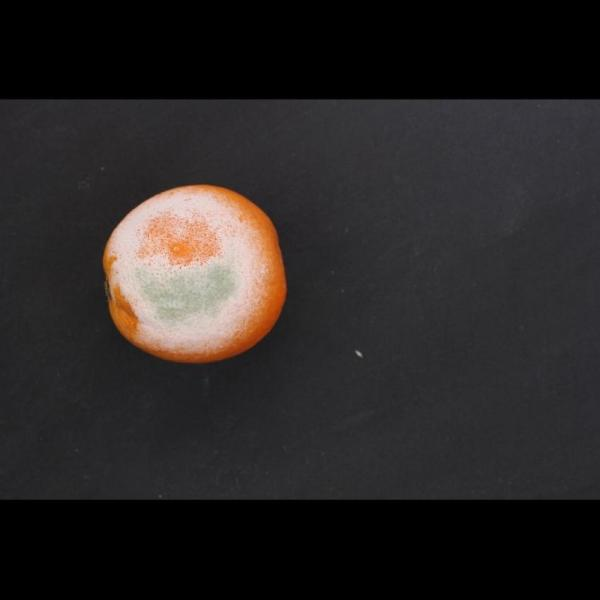Moho verde: (92, 176, 301, 368)
